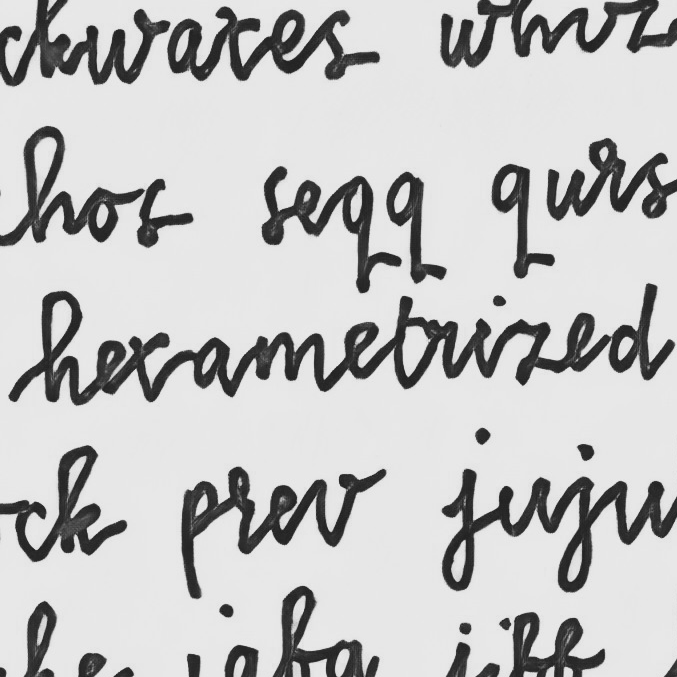a: (191, 334, 234, 395)
d: (607, 281, 660, 382)
e: (342, 319, 385, 382), (563, 310, 600, 374), (93, 339, 127, 396)
h: (36, 289, 84, 407)
i: (471, 293, 507, 380)
m: (253, 328, 328, 391)
r: (423, 317, 461, 381)
t: (391, 294, 418, 391)
x: (127, 331, 174, 404)
z: (510, 315, 552, 387)
